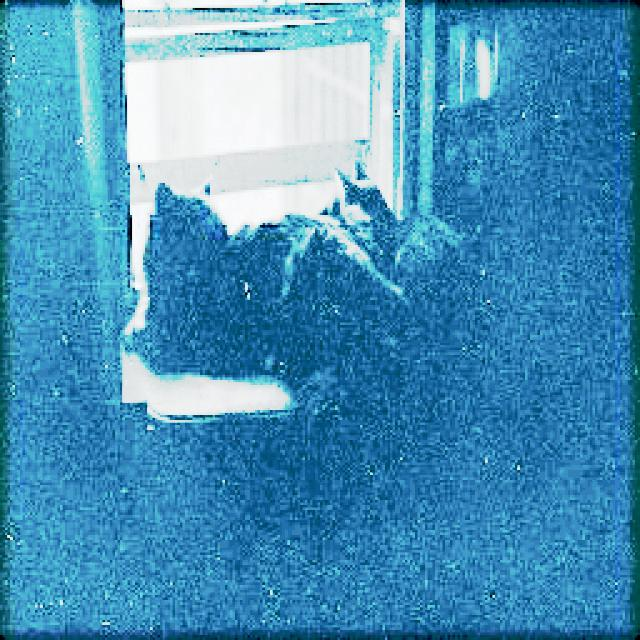cat: (148, 180, 399, 402), (312, 168, 391, 226)
